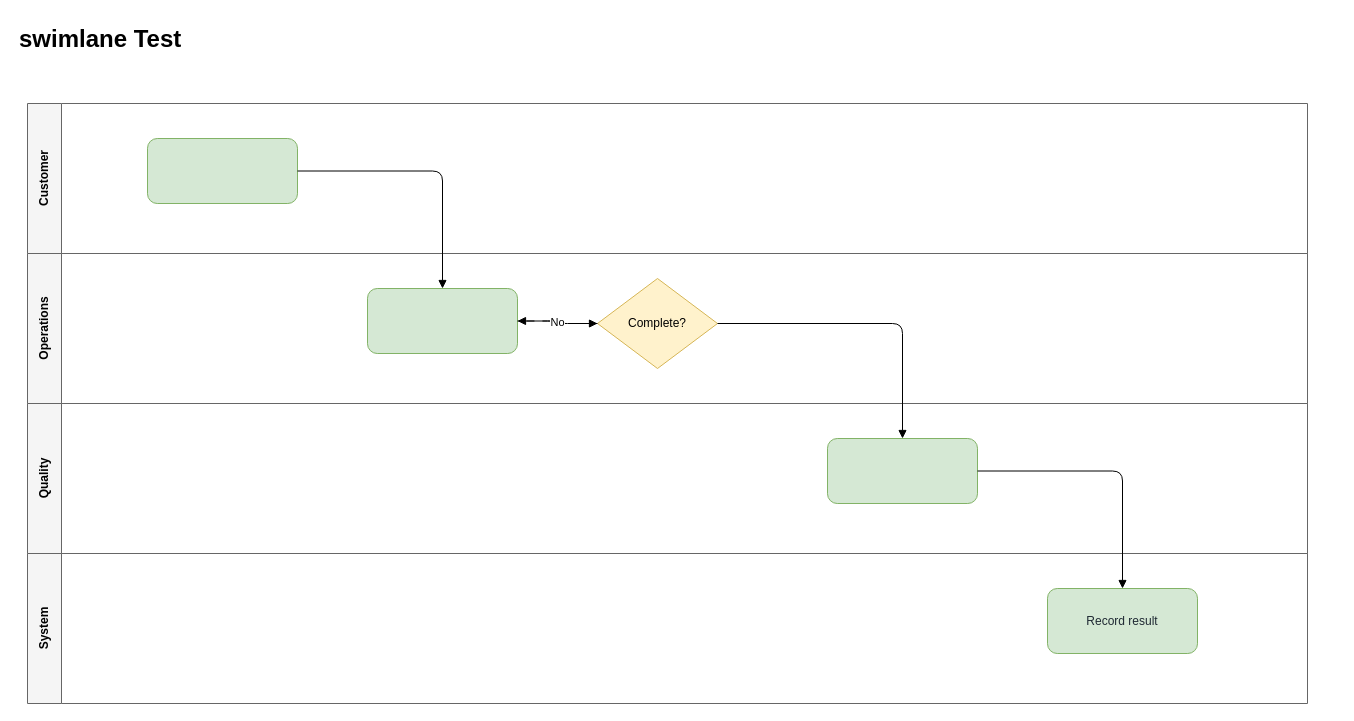
Some shapes in this 1354 by 721 pixel diagram are drawn without their labels. Here are the shapes that lost their labels. From the top down, the centre of each, then its label:
At pixel 222 171: "Submit request".
At pixel 442 321: "Review request".
At pixel 902 471: "Inspect".
